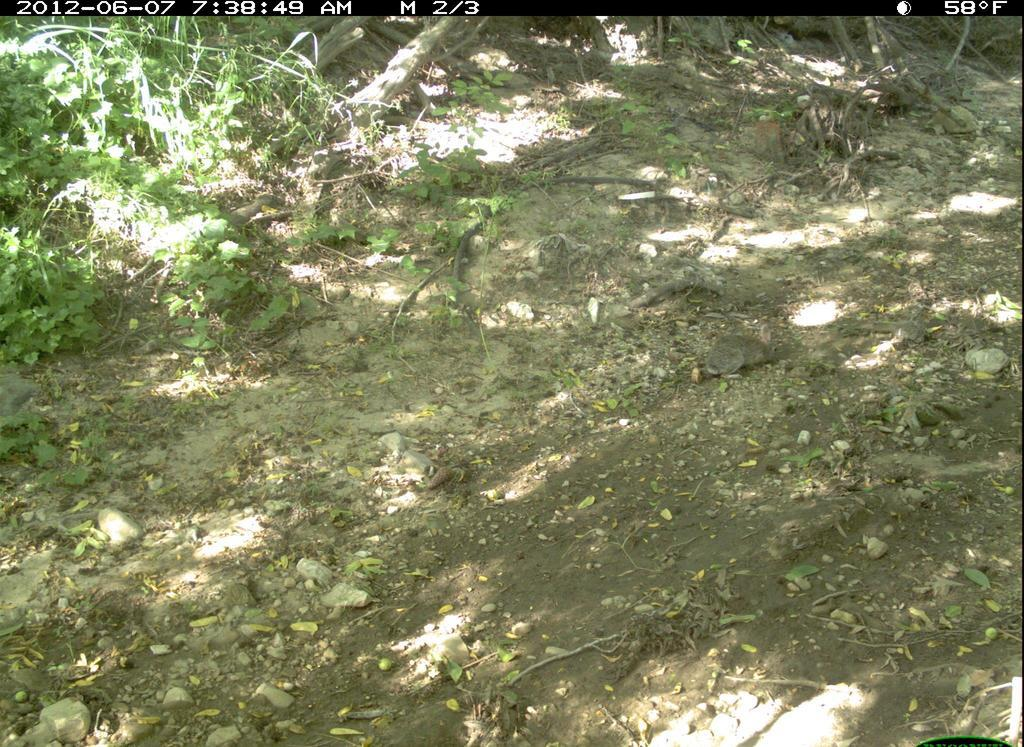rabbit: (699, 313, 786, 389)
